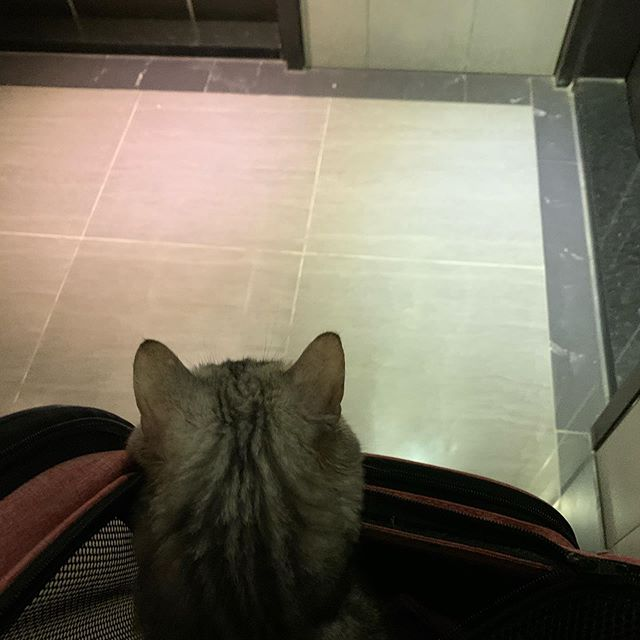cat: (122, 333, 367, 587)
